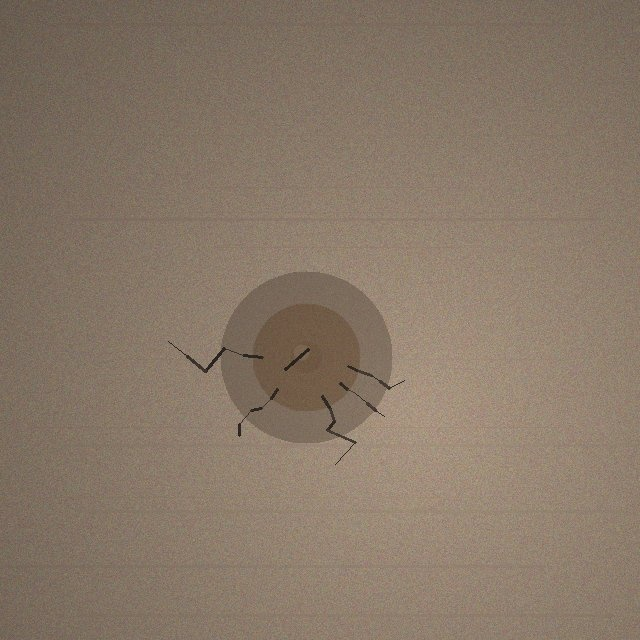crack: (220, 271, 392, 443)
